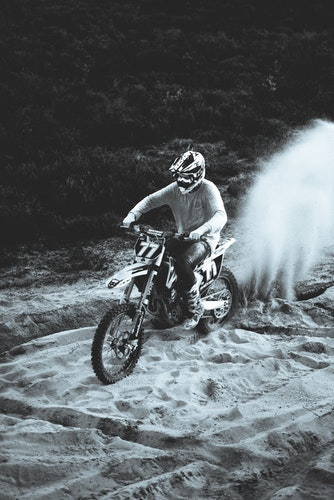helmet: (175, 154, 202, 193)
